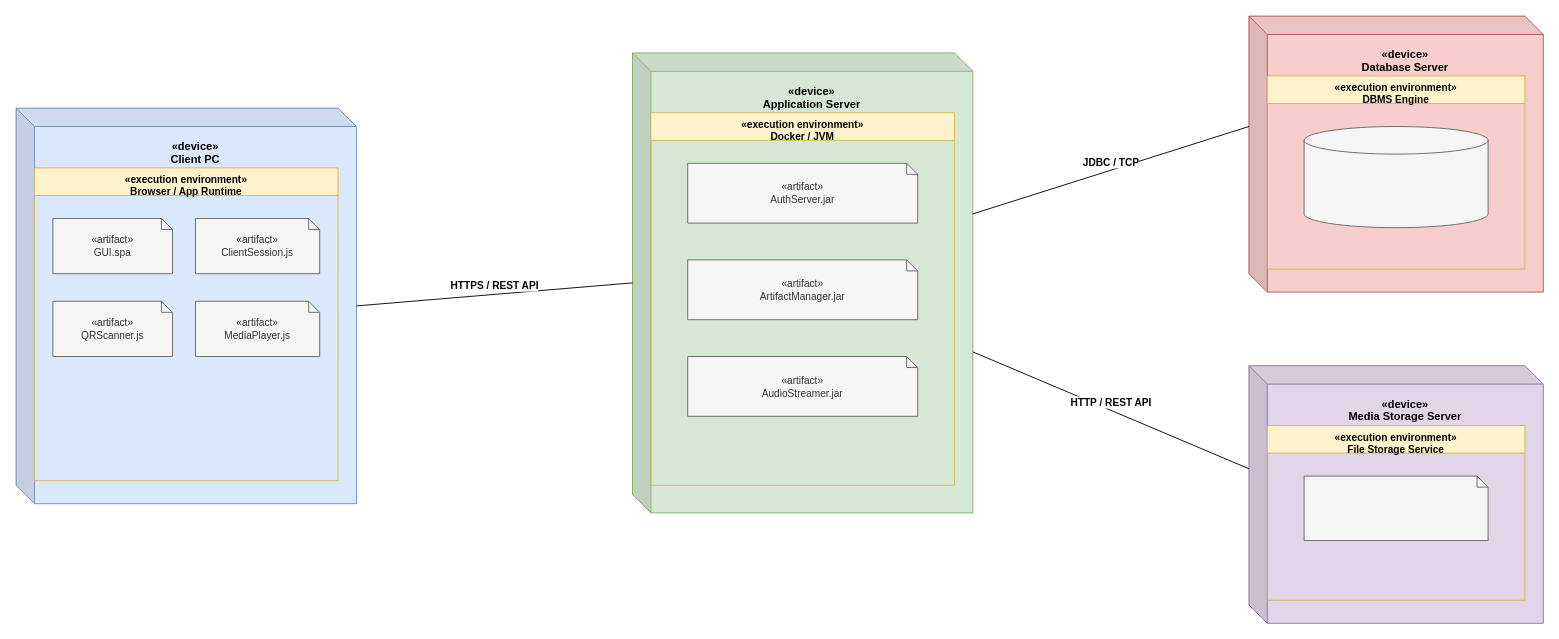
Image size: 1559x639. Some labels were removed from this diagram. The shapes that lost their labels are listed below. From the top down, each one's centre as x and y in pixels, then its label:
At pixel 1395 177: "«database system» System DB".
At pixel 1395 507: "«artifact» MediaArchive.storage".
